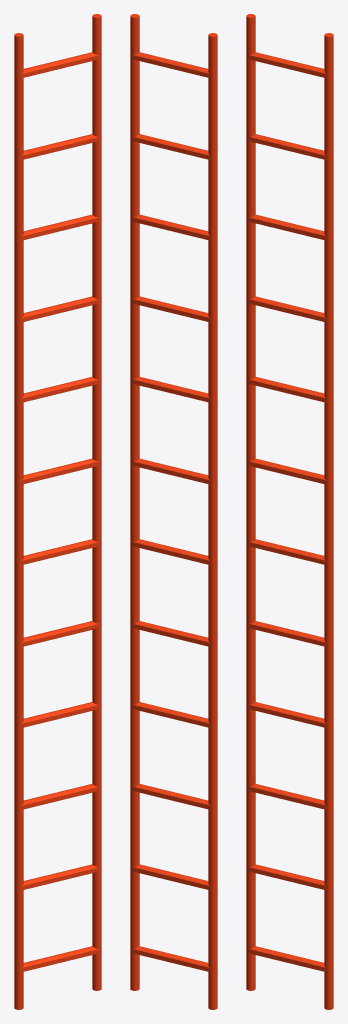
File: ladder.obj
3 renders of one model, left to right at view 1: azimuth 30°, elevation 25°; view 2: azimuth 150°, elevation 25°; view 3: azimuth 330°, elevation 25°, orthographic.
Visible parts, largest first — view 1: Cylinder.010; view 2: Cylinder.010; view 3: Cylinder.010.
Boxes of the visible parts, <box> form: Cylinder.010: <box>14,14,101,1009</box>; Cylinder.010: <box>130,14,217,1009</box>; Cylinder.010: <box>246,14,333,1009</box>.
Size of the model in its own units: 4.32 by 46.69 by 0.3984.
